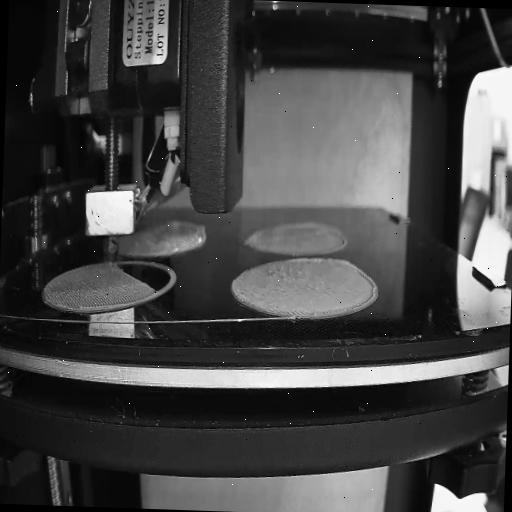over_extrusion: (359, 264, 380, 314)
